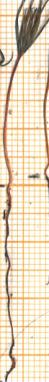flower: (8, 0, 49, 60)
root: (1, 186, 20, 382)
stem: (0, 54, 25, 188)
